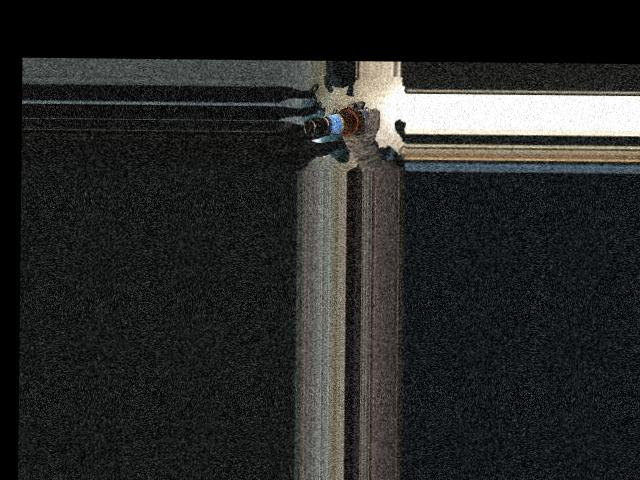beer: (303, 105, 375, 137)
